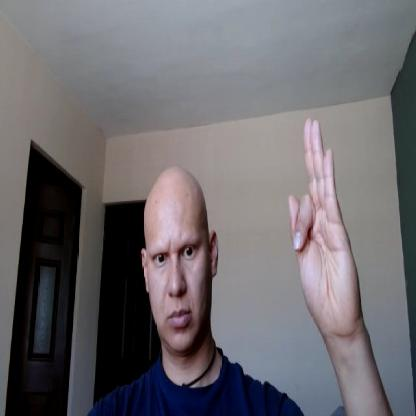F: (288, 115, 360, 335)
